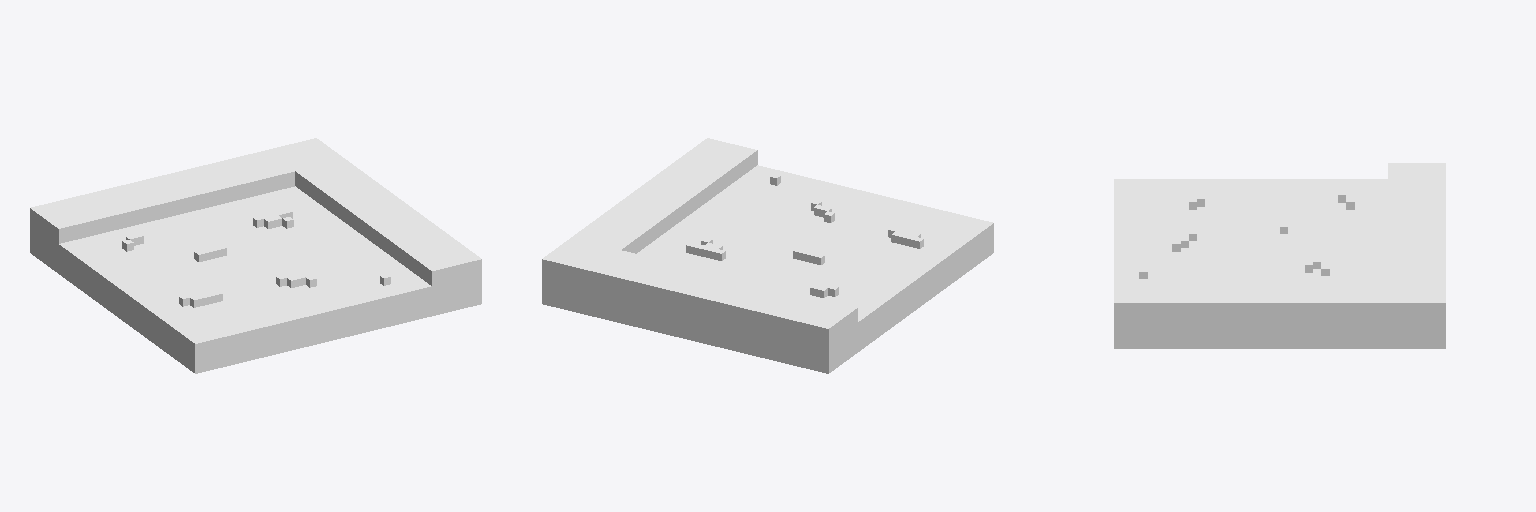
File: GrassCornerOut.obj
The picture shows the model from 3 angles: view 1: azimuth 30°, elevation 25°; view 2: azimuth 150°, elevation 25°; view 3: azimuth 270°, elevation 25°; orthographic projection.
Parts seen in each view (by area): view 1: GrassCornerOut; view 2: GrassCornerOut; view 3: GrassCornerOut.
Boxes of the visible parts, <box> form: GrassCornerOut: <box>30,138,481,373</box>; GrassCornerOut: <box>542,138,993,373</box>; GrassCornerOut: <box>1114,163,1445,348</box>.
Size of the model in its own units: 40 by 6 by 40.